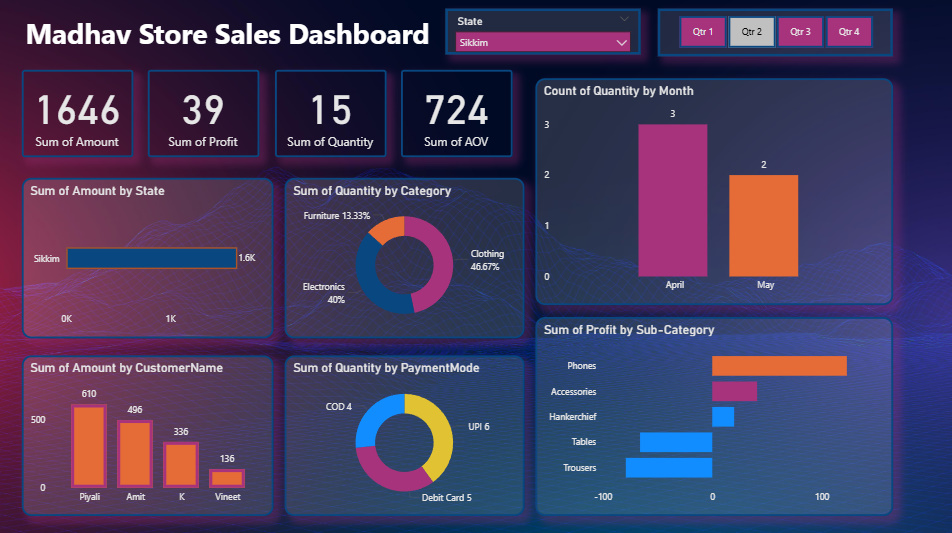

The dashboard page shown, as its layout file describes it:
{"tool":"powerbi","page":{"name":"Page 1","canvas":[1280,720],"ordinal":0},"visuals":[{"type":"textbox","title":"Madhav Store Sales Dashboard","box":[30.6,16.1,559.7,61.3],"z":0},{"type":"clusteredColumnChart","fields":{"Y":["Details.Quantity"],"Category":["Orders.Order Date.Variation.Date Hierarchy.Month"]},"box":[721,106.5,480.6,304.8],"z":1000},{"type":"barChart","fields":{"Category":["Details.Sub-Category"],"Y":["Details.Profit"]},"box":[721,427.4,480.6,267.7],"z":2000},{"type":"donutChart","fields":{"Category":["Details.Category"],"Y":["Details.Quantity"]},"box":[383.9,240.3,322.6,216.1],"z":3000},{"type":"donutChart","fields":{"Category":["Details.PaymentMode"],"Y":["Details.Quantity"]},"box":[383.9,479,322.6,216.1],"z":4000},{"type":"card","fields":{"Values":["Details.Amount"]},"box":[30.6,95.2,150,117.7],"z":5000},{"type":"barChart","fields":{"Category":["Orders.State"],"Y":["Details.Amount"]},"box":[30.6,240.3,338.7,216.1],"z":6000},{"type":"columnChart","fields":{"Category":["Orders.CustomerName"],"Y":["Details.Amount"]},"box":[30.6,479,338.7,216.1],"z":7000},{"type":"slicer","fields":{"Values":["Orders.Order Date.Variation.Date Hierarchy.Quarter"]},"box":[885.5,12.9,316.1,64.5],"z":8000},{"type":"slicer","fields":{"Values":["Orders.State"]},"box":[600,12.9,262.9,61.3],"z":9000},{"type":"card","fields":{"Values":["Details.Profit"]},"box":[200.5,95.2,150,117.7],"z":10000},{"type":"card","fields":{"Values":["Details.Quantity"]},"box":[370.4,95.2,150,117.7],"z":11000},{"type":"card","fields":{"Values":["Details.AOV"]},"box":[540.3,95.2,150,117.7],"z":12000}]}

Visuals, with their boxes in screenshot pixels (x1, y1, x2, y2), scaled from the page's 1280x720 canvas onto the 952x533 screenshot:
"Madhav Store Sales Dashboard" textbox: bbox=[23, 12, 439, 57]
clusteredColumnChart - Details.Quantity x Orders.Order Date.Variation.Date Hierarchy.Month: bbox=[536, 79, 894, 304]
barChart - Details.Sub-Category x Details.Profit: bbox=[536, 316, 894, 515]
donutChart - Details.Category x Details.Quantity: bbox=[286, 178, 525, 338]
donutChart - Details.PaymentMode x Details.Quantity: bbox=[286, 355, 525, 515]
card - Details.Amount: bbox=[23, 70, 134, 158]
barChart - Orders.State x Details.Amount: bbox=[23, 178, 275, 338]
columnChart - Orders.CustomerName x Details.Amount: bbox=[23, 355, 275, 515]
slicer - Orders.Order Date.Variation.Date Hierarchy.Quarter: bbox=[659, 10, 894, 57]
slicer - Orders.State: bbox=[446, 10, 642, 55]
card - Details.Profit: bbox=[149, 70, 261, 158]
card - Details.Quantity: bbox=[275, 70, 387, 158]
card - Details.AOV: bbox=[402, 70, 513, 158]
